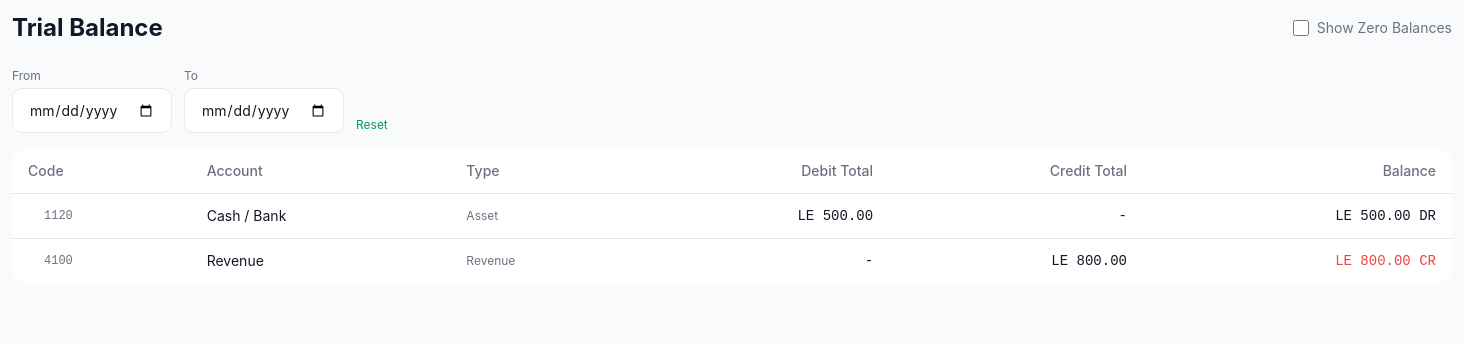
Test: OrgFinancialReportsPage — org-scoped accounting reports › hides zero-balance rows by default and shows them with Show Zero Balances
The width and height of the screenshot is (1464, 345).
Expected: the text "Cash / Bank" is shown, top-left (191, 194), bottom-right (450, 238)
Click the checkbox at (1301, 28), box top-left (1293, 20), bottom-right (1309, 36)
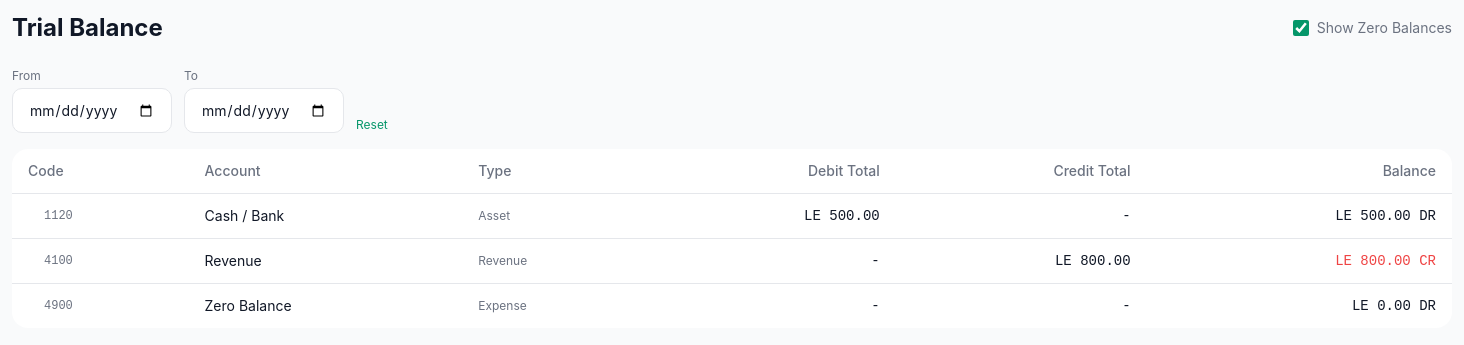
Result: the text "Zero Balance" is shown at top-left (188, 284), bottom-right (462, 328)
